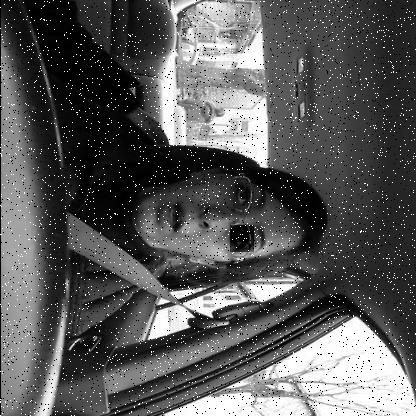seatbelt: (64, 157, 338, 292)
